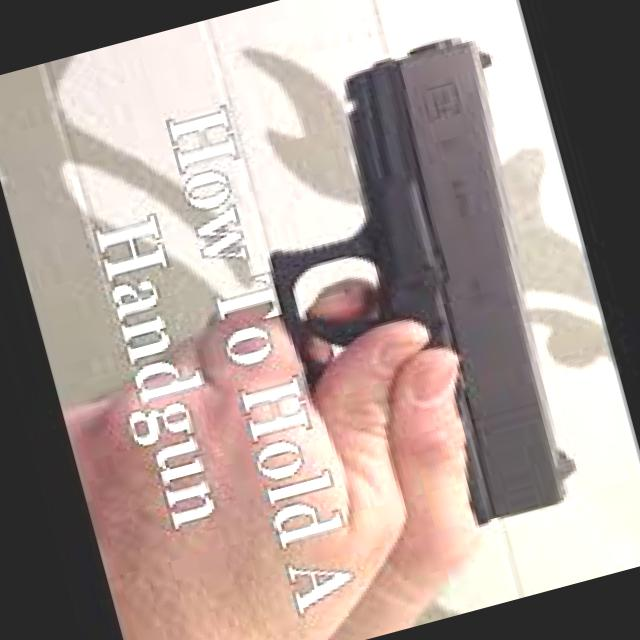handgun: (209, 22, 622, 566)
